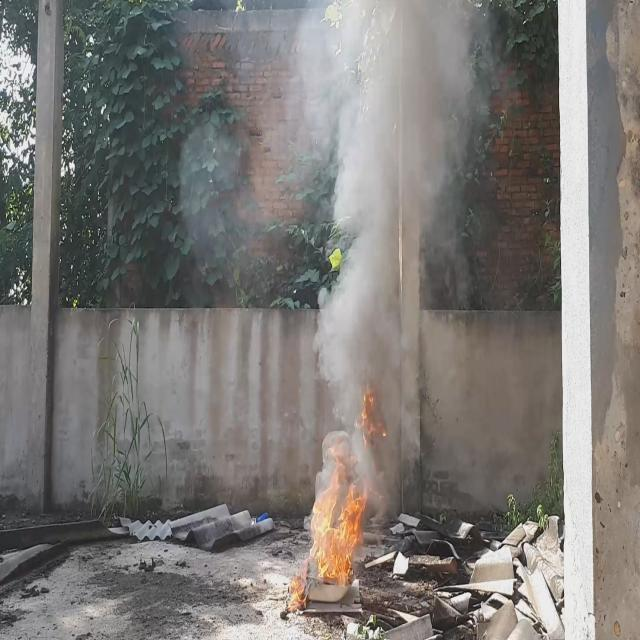Fire: (306, 465, 369, 585)
Smoke: (174, 0, 520, 510)
